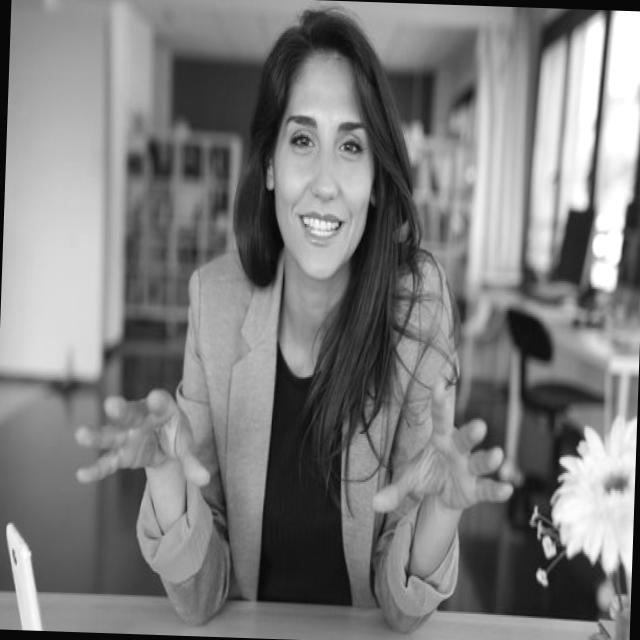Hand: (366, 373, 520, 531), (69, 375, 216, 515)
